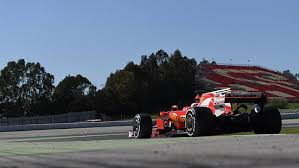FormulaOneCar: (128, 87, 285, 147)
